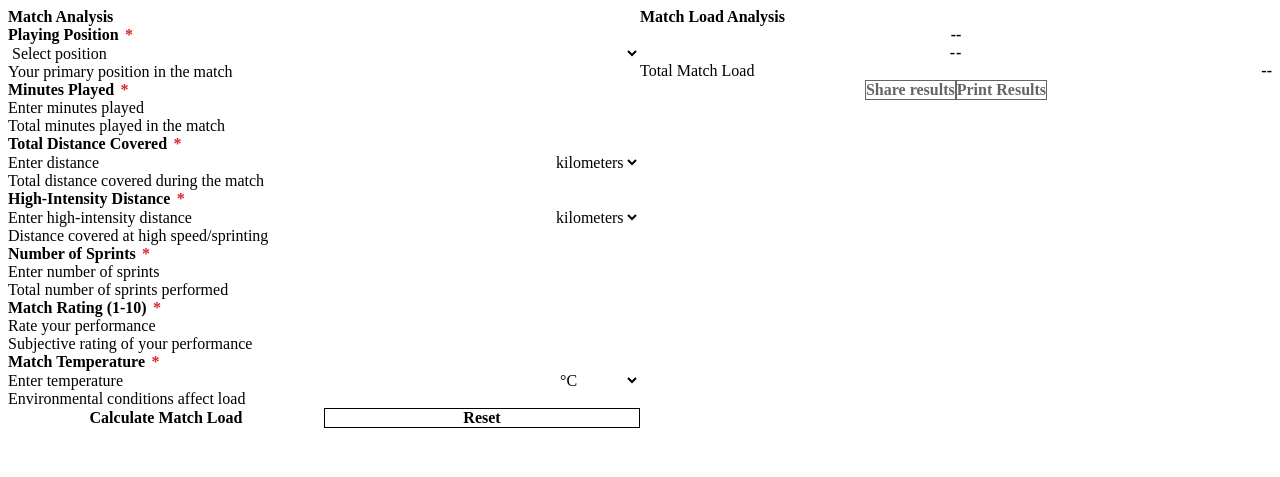
Test case: SoccerMatchLoadCalculator › computes the source match load analysis end-to-end
Select "Midfielder" in the dropdown labelled "Playing Position" at [324, 54], box [8,44,640,63]
Type "90" into the number field labelled "Minutes Played" at [324, 108], box [8,99,640,117]
Type "11" into the number field named "Total Distance Covered" at [280, 162], box [8,153,552,172]
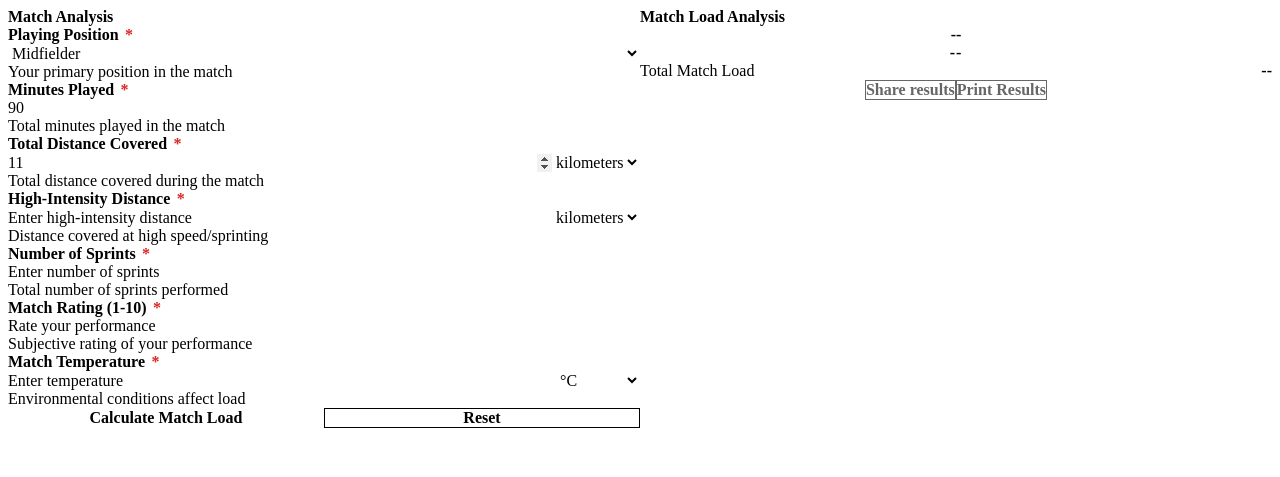
Type "0.7" into the number field labelled "high-intensity distance" at [280, 218], box [8,208,552,227]
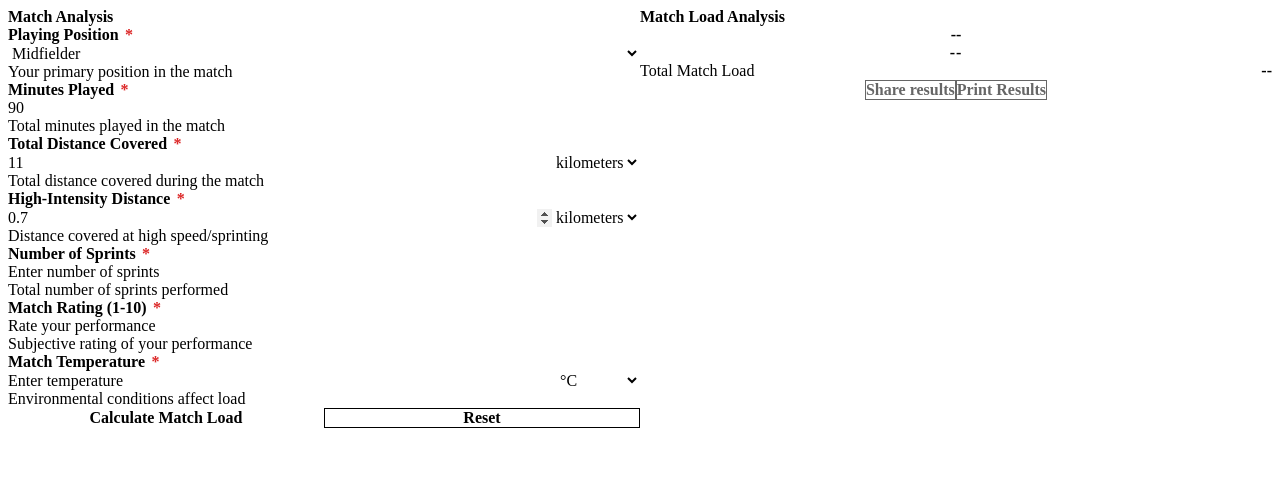
Type "25" into the number field labelled "Number of Sprints" at [324, 272], box [8,263,640,281]
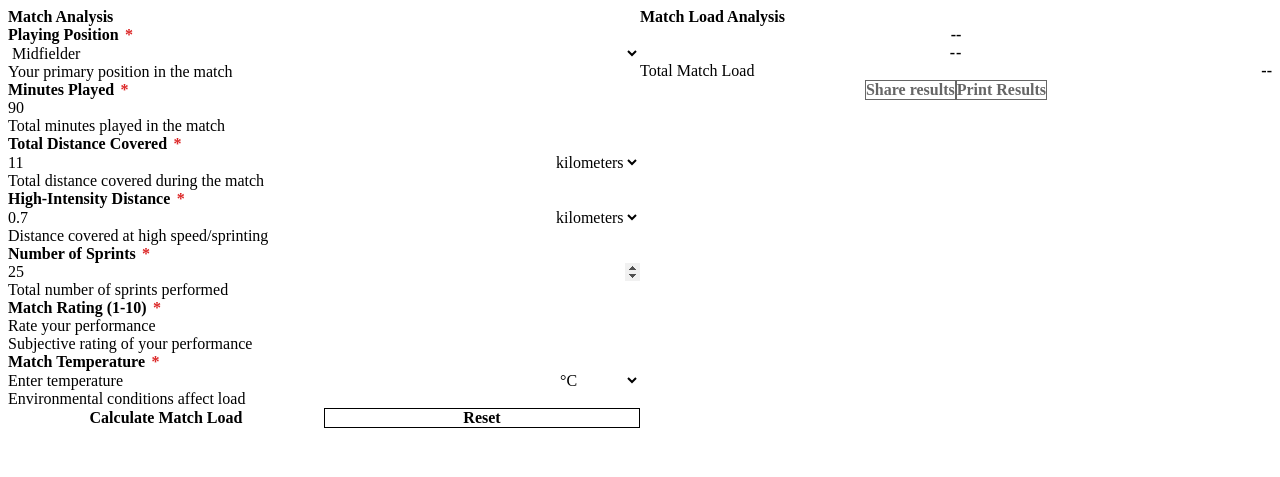
Type "7.5" into the number field labelled "Match Rating (1-10)" at [324, 326], box [8,317,640,335]
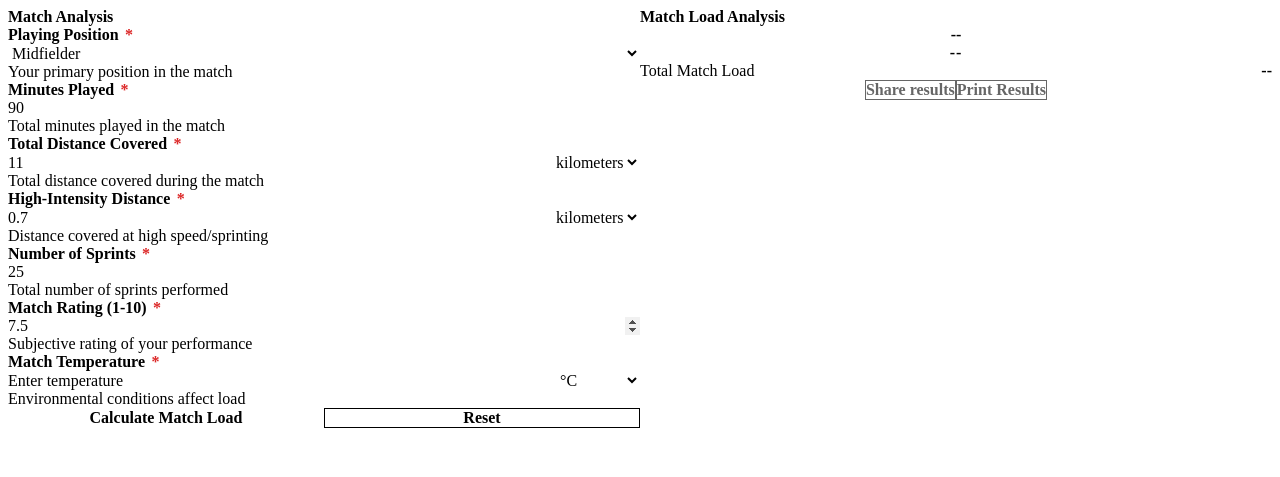
Type "20" into the number field named "Match Temperature" at [282, 380], box [8,371,556,390]
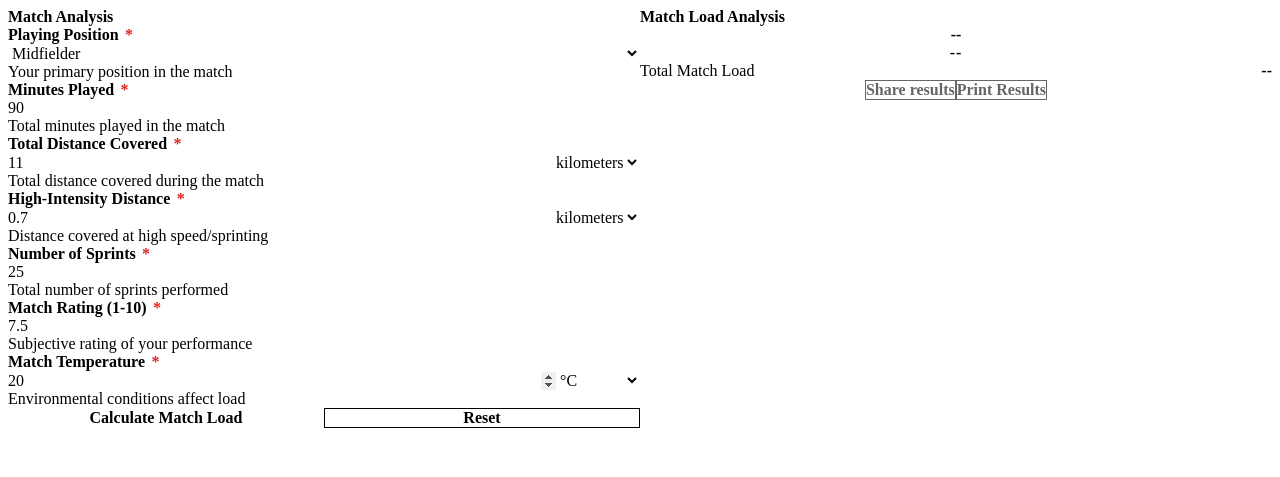
Click the button "Calculate Match Load" at [166, 418], box [8,408,324,428]
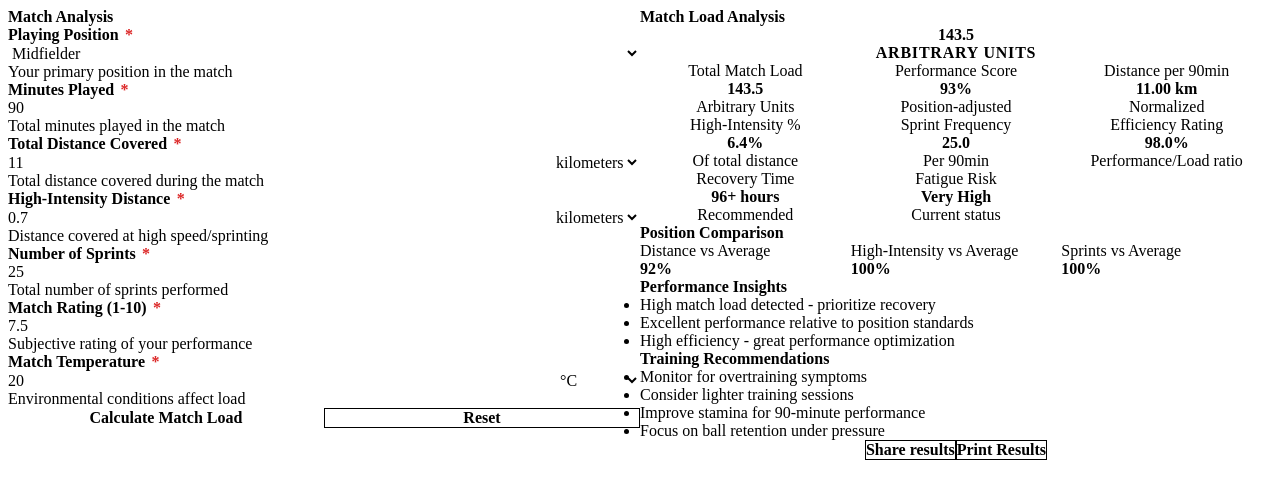
Expected: the element "Match Load Analysis" shows "143.5", [938,26,974,43]
Expected: the element "Match Load Analysis" shows "93%", [640,8,1272,460]
Expected: the element "Match Load Analysis" shows "11.00 km", [640,8,1272,460]
